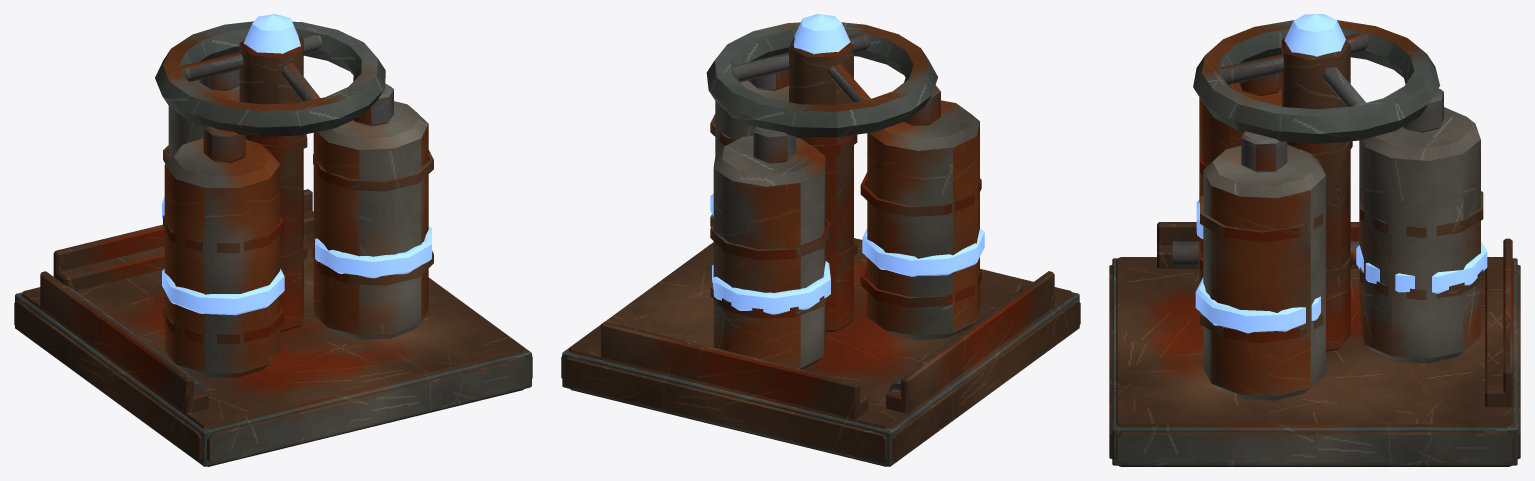
File: R4X_ChargeRegenerator.glb
3 views of the same model, side by side, from view 1: azimuth 30°, elevation 25°; view 2: azimuth 150°, elevation 25°; view 3: azimuth 270°, elevation 25° (orthographic). The views are drawn at different scales.
Visible parts, largest first — view 1: R4X_ChargeRegenerator_Body; view 2: R4X_ChargeRegenerator_Body; view 3: R4X_ChargeRegenerator_Body.
Part boxes in pixels (x1,y1,x2,y2): R4X_ChargeRegenerator_Body: (14, 14, 532, 466); R4X_ChargeRegenerator_Body: (561, 14, 1080, 466); R4X_ChargeRegenerator_Body: (1109, 14, 1520, 466).
Size of the model in its own units: 0.52 by 0.515 by 0.52.
5 materials, 4 textured.
